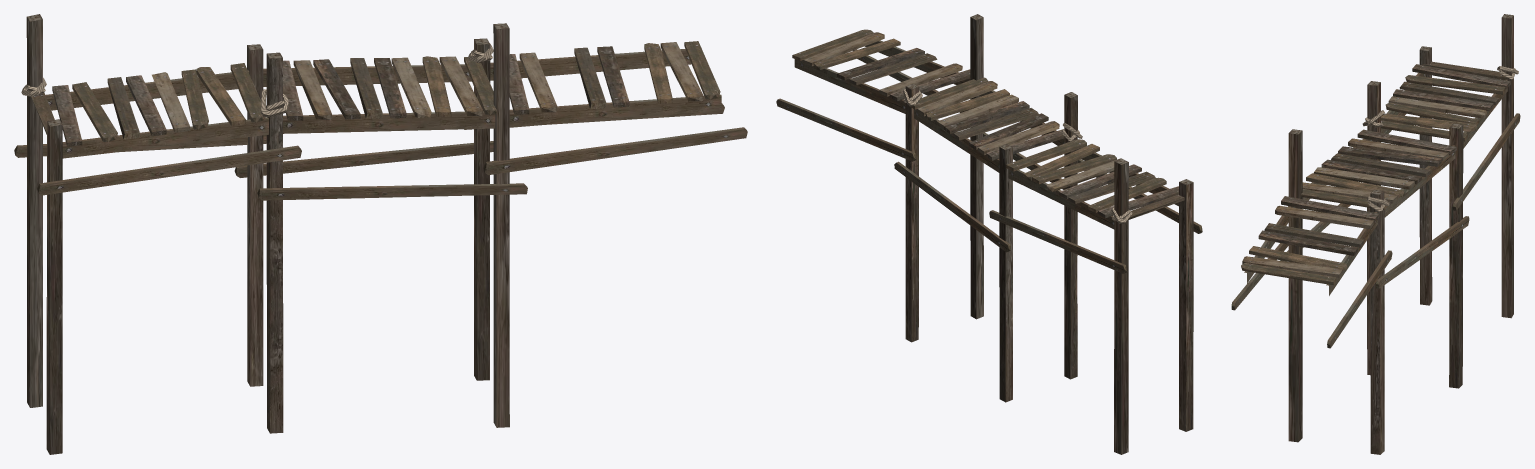
File: swamp_b-close.glb
3 renders of one model, left to right at view 1: azimuth 30°, elevation 25°; view 2: azimuth 150°, elevation 25°; view 3: azimuth 270°, elevation 25°, orthographic. The views are drawn at different scales.
Parts seen in each view (by area): view 1: wooden_walkway_900_LOD0; view 2: wooden_walkway_900_LOD0; view 3: wooden_walkway_900_LOD0.
Boxes of the visible parts, x1,y1,x2,y2 form: wooden_walkway_900_LOD0: (14,14,747,454); wooden_walkway_900_LOD0: (776,14,1202,454); wooden_walkway_900_LOD0: (1231,14,1520,454).
Bounding box in the file's own units: 9.63 × 5.84 × 4.97.
Materials: 2 (2 with a texture image).
